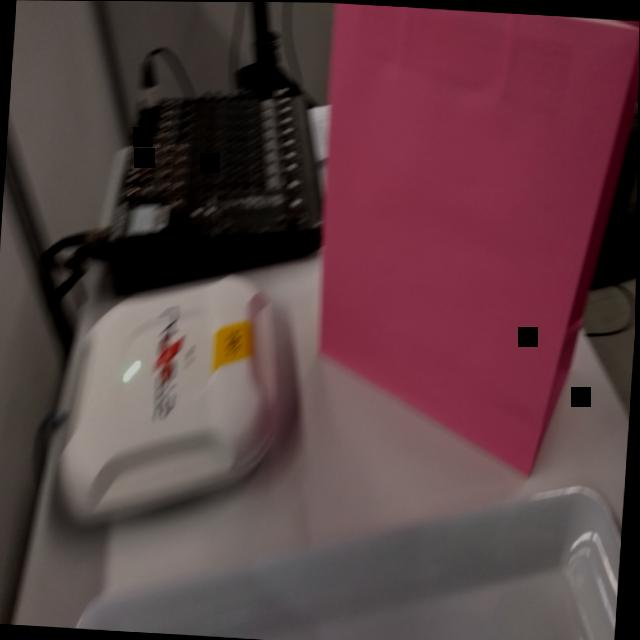help_me_carry_opl: (299, 2, 640, 486)
tray: (61, 448, 627, 640)
